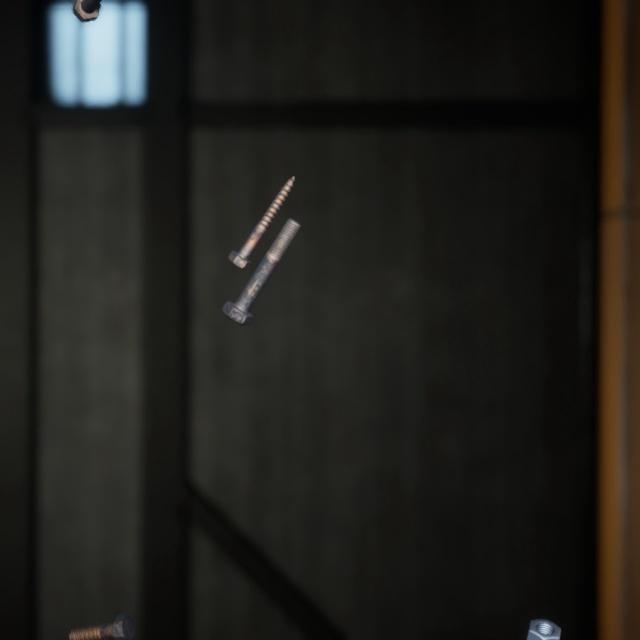bolt: (217, 196, 305, 313), (223, 155, 300, 259), (64, 585, 140, 625)
nut: (522, 590, 565, 630)
